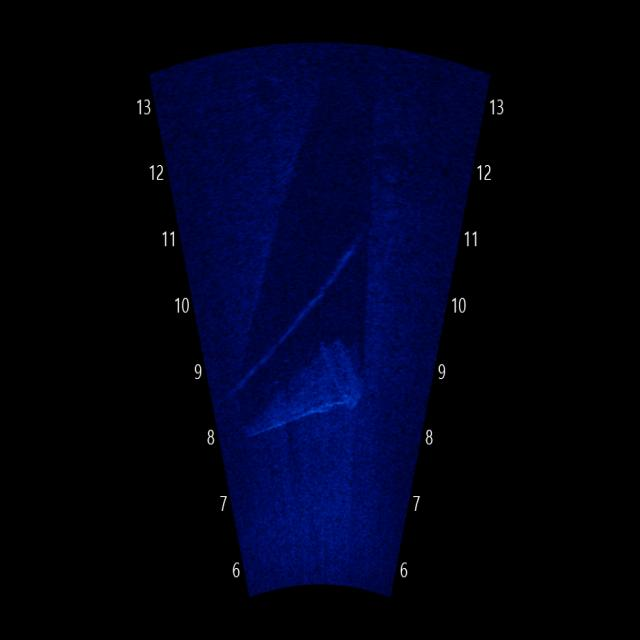circle: (242, 68, 292, 129), (374, 136, 414, 188)
triangle: (247, 317, 371, 454)
